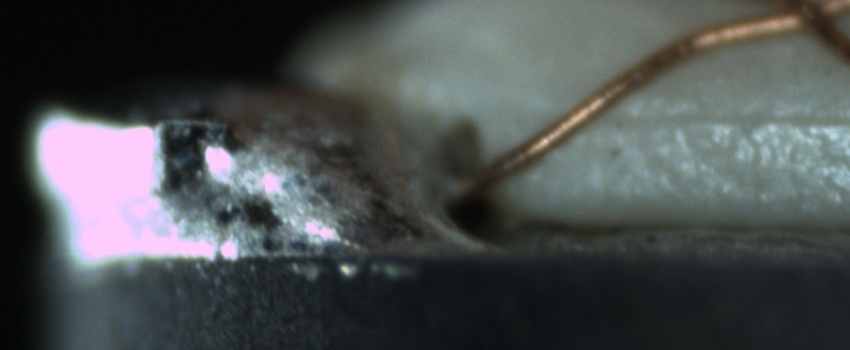DL: (572, 86, 846, 152)
